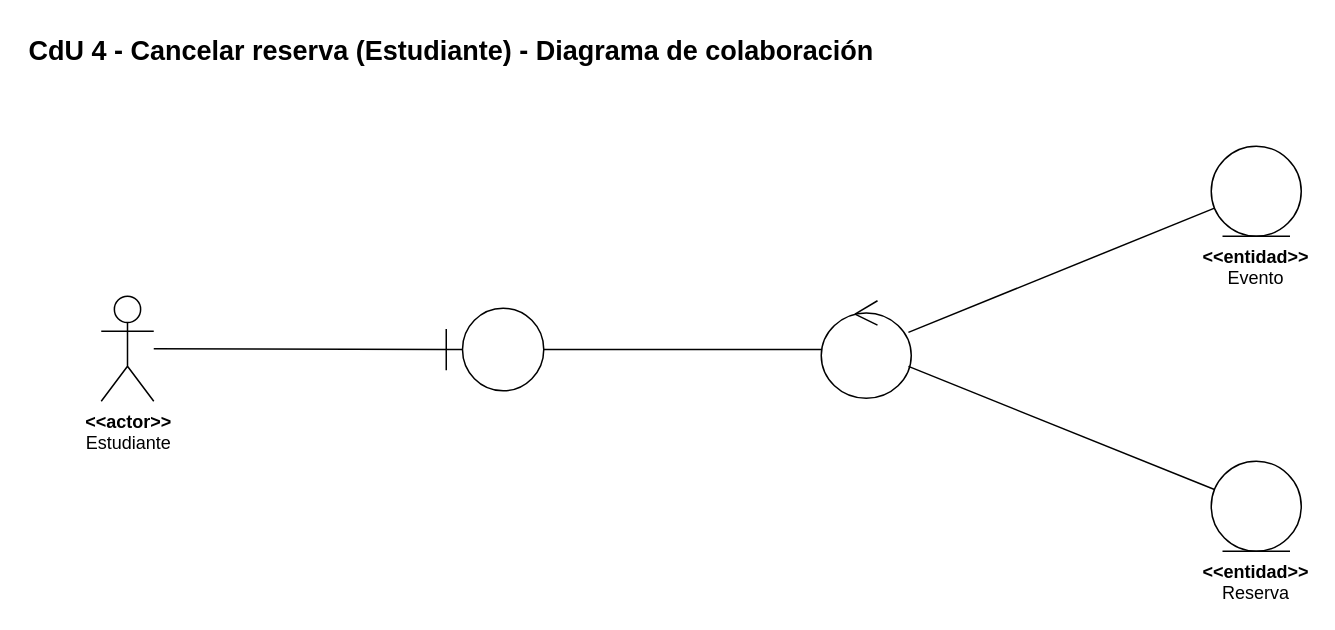
This 1335x630 diagram has some shape labels left out. The centre of each missing label's shape, as x and y in pixels:
"<<control>> GestiónReserva" goes at pixel 865 348.
"<<límite>> PantallaEventos" goes at pixel 494 349.
